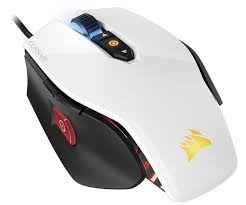mouse: (9, 7, 243, 200)
